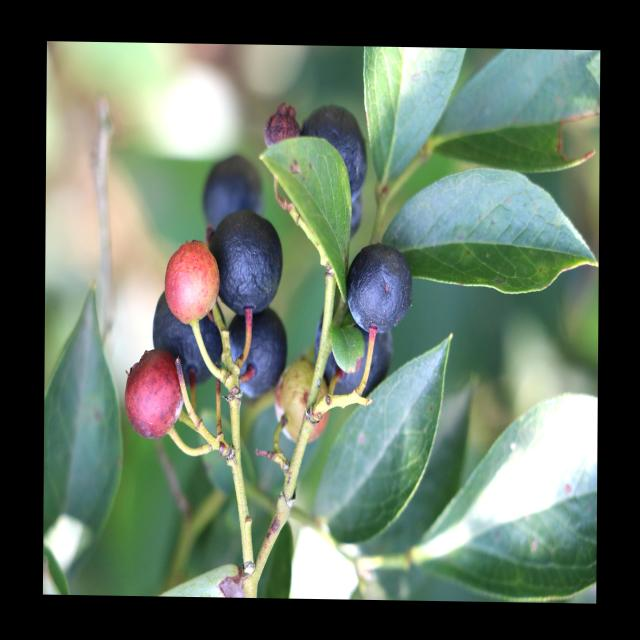blueberry: (309, 290, 399, 414), (200, 202, 286, 321), (148, 280, 234, 394), (295, 98, 375, 212), (215, 298, 294, 406), (341, 239, 419, 343), (197, 148, 270, 242), (336, 188, 372, 246)
blueberry-halfripe: (163, 242, 220, 327), (128, 353, 181, 437)
blueberry-unripe: (271, 362, 333, 443)
